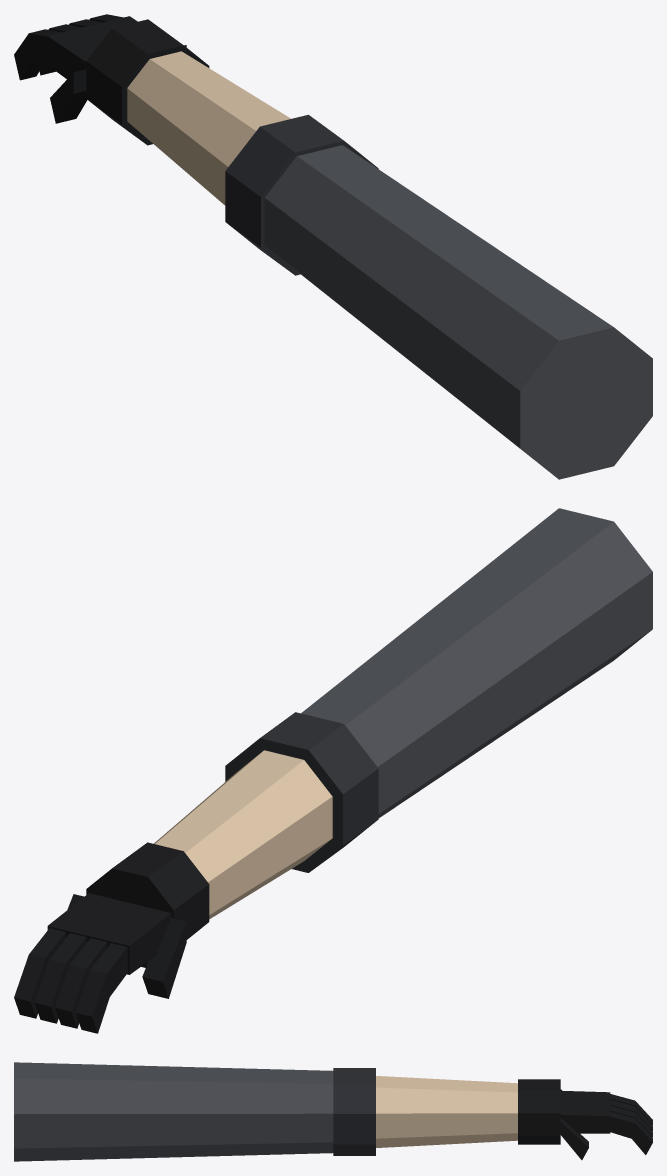
File: haende.glb
3 renders of one model, top to bottom at view 1: azimuth 30°, elevation 25°; view 2: azimuth 150°, elevation 25°; view 3: azimuth 270°, elevation 25°, orthographic. The views are drawn at different scales.
Visible parts, largest first — view 1: hand_r_stoff, hand_r_haut, hand_r_schwarz, hand_r_dunkel, hand_l_schwarz; view 2: hand_r_stoff, hand_r_schwarz, hand_r_haut, hand_r_dunkel, hand_l_schwarz; view 3: hand_r_stoff, hand_r_haut, hand_l_schwarz, hand_r_dunkel, hand_r_schwarz.
Part boxes in pixels (box(x1,y1,x2,y2)): hand_r_stoff: box(264, 145, 652, 479); hand_r_haut: box(127, 51, 290, 205); hand_r_schwarz: box(14, 14, 209, 145); hand_r_dunkel: box(225, 114, 378, 275); hand_l_schwarz: box(21, 15, 206, 144); hand_r_stoff: box(301, 508, 652, 817); hand_r_schwarz: box(14, 842, 209, 1033); hand_r_haut: box(153, 750, 332, 919); hand_r_dunkel: box(225, 712, 378, 872); hand_l_schwarz: box(14, 845, 186, 1033); hand_r_stoff: box(14, 1062, 333, 1161); hand_r_haut: box(376, 1076, 517, 1147); hand_l_schwarz: box(518, 1089, 652, 1154); hand_r_dunkel: box(333, 1068, 375, 1155); hand_r_schwarz: box(518, 1079, 652, 1159).
Size of the model in its own units: 0.1293 by 0.1293 by 0.9.
